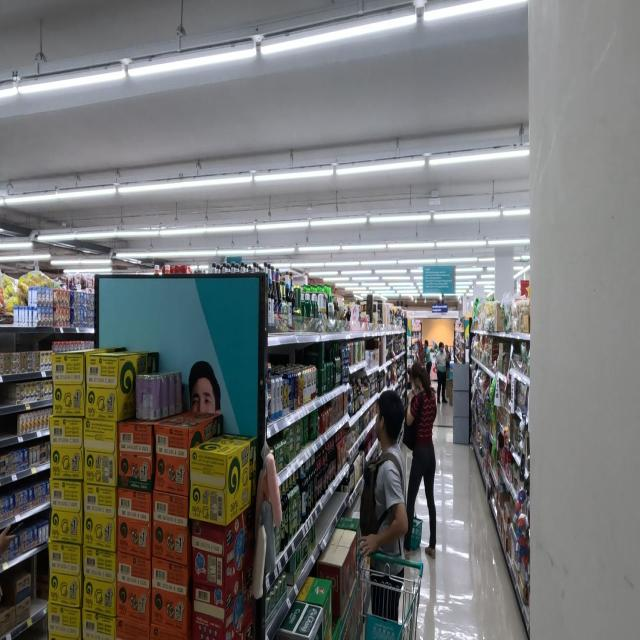shoplifting: (401, 360, 440, 555)
